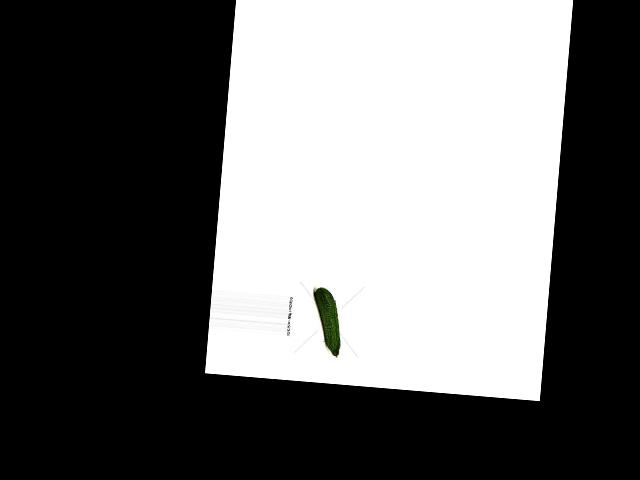cucumber: (309, 287, 344, 357)
